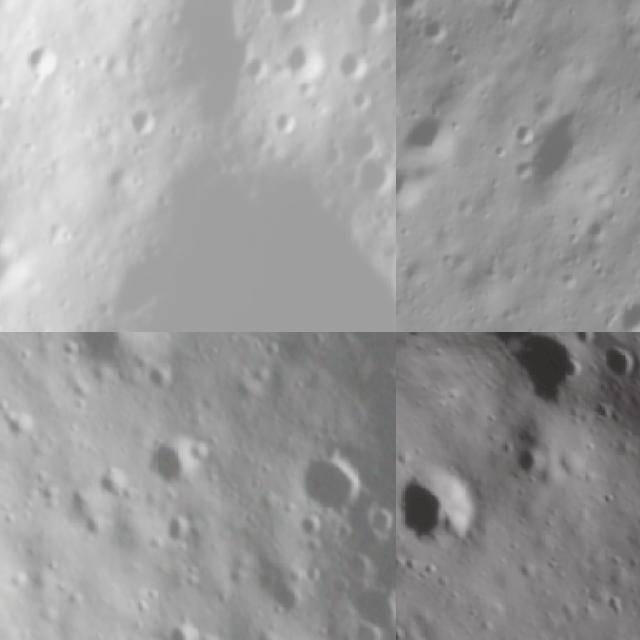crater: (60, 142, 396, 332), (396, 440, 504, 582), (496, 332, 599, 418), (396, 100, 467, 168), (54, 332, 154, 377), (294, 446, 366, 508), (360, 525, 396, 625), (144, 432, 201, 489), (587, 332, 640, 391), (338, 147, 396, 199), (502, 432, 554, 484), (280, 34, 326, 82), (261, 576, 305, 624), (396, 566, 424, 640), (16, 37, 62, 82), (136, 352, 176, 400), (396, 155, 426, 216), (0, 408, 41, 445), (351, 0, 390, 29), (337, 48, 371, 81), (396, 617, 443, 640), (161, 508, 188, 546), (159, 618, 205, 640), (340, 616, 382, 640), (259, 0, 313, 18), (369, 505, 390, 536), (396, 263, 411, 304)
